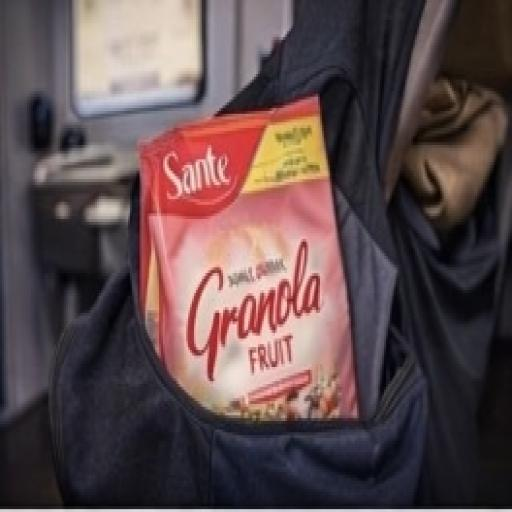granola: (110, 83, 389, 452)
